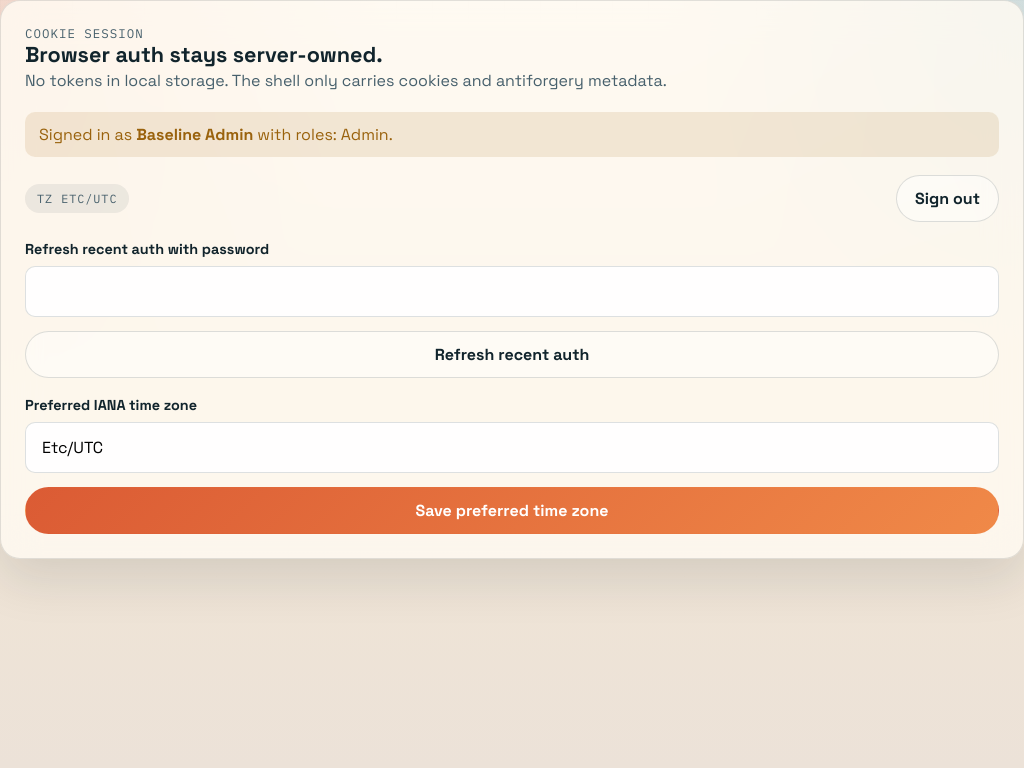
Test case: AuthPanel › refreshes recent authentication through the step-up form
This screenshot has width=1024, height=768.
In the password field labelled "Refresh recent auth with password": (512, 291) [25, 266, 999, 317], type "LocalOnly!123"
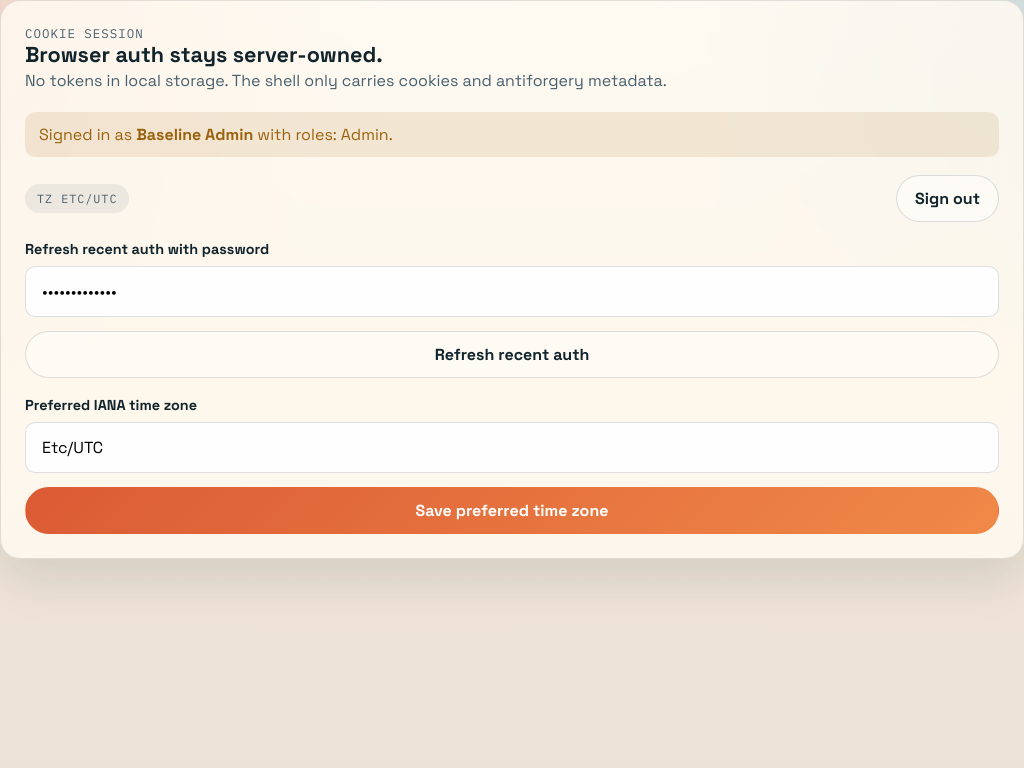
Click the button "Refresh recent auth": (512, 354) [25, 331, 999, 378]
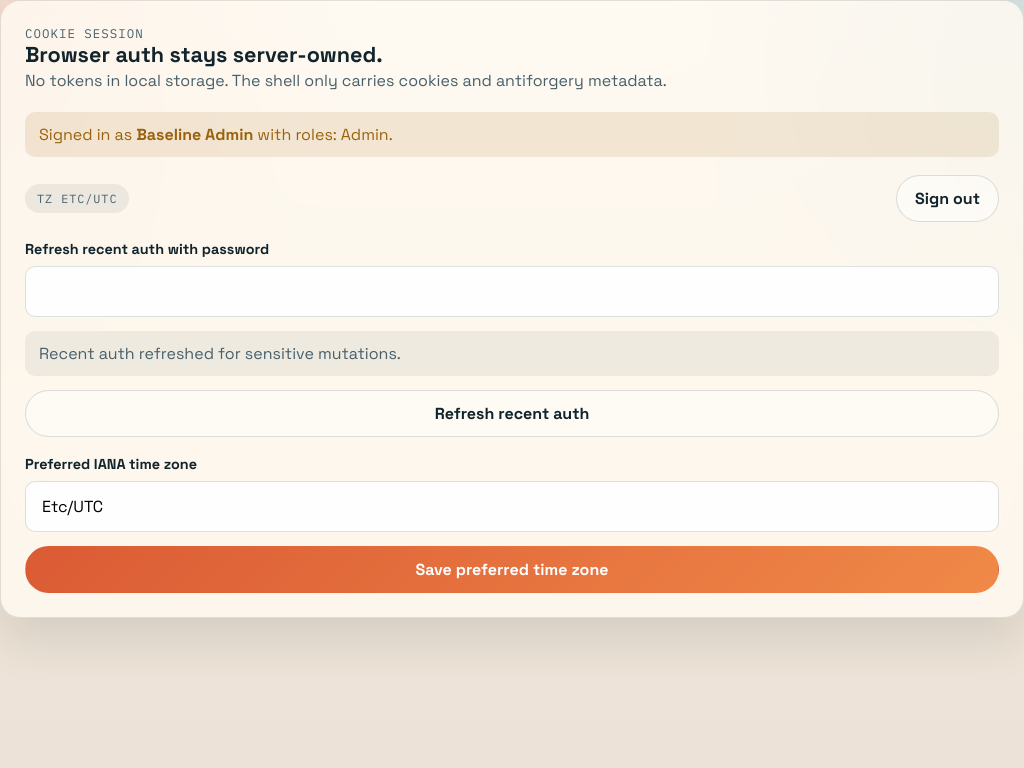
Expected: the text "Recent auth refreshed for sensitive mutations." is shown, [25, 331, 999, 376]
